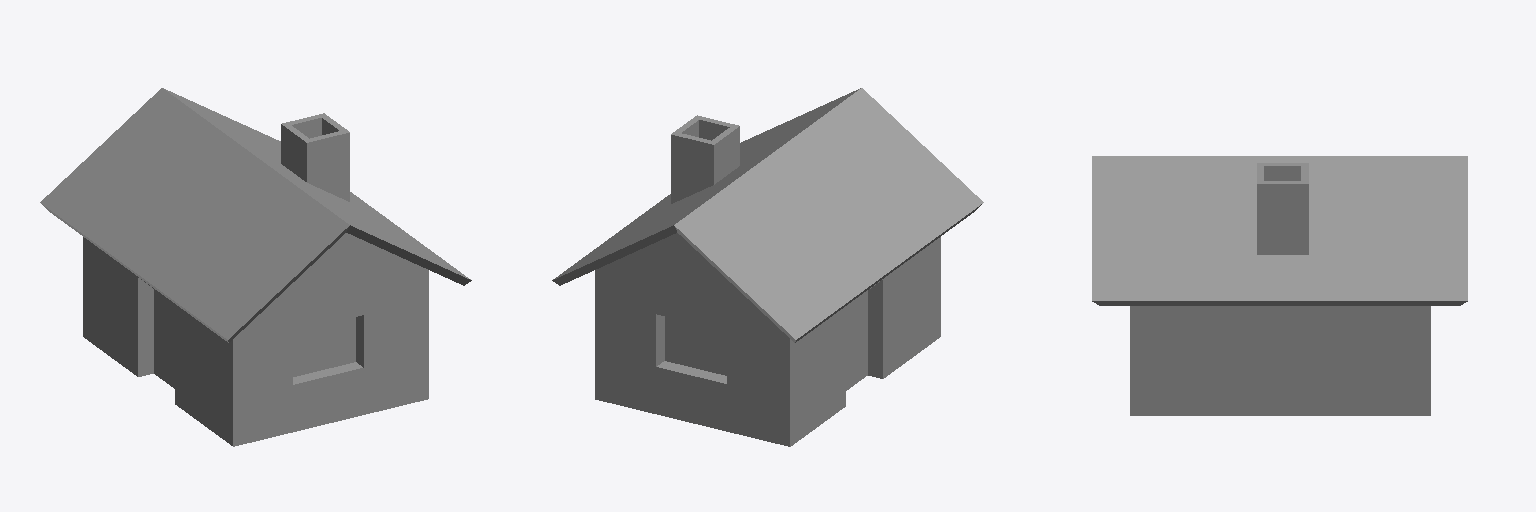
File: House_3x4_2.obj
The picture shows the model from 3 angles: view 1: azimuth 30°, elevation 25°; view 2: azimuth 150°, elevation 25°; view 3: azimuth 270°, elevation 25°; orthographic projection.
Visible parts, largest first — view 1: Cube; view 2: Cube; view 3: Cube.
Part boxes in pixels (bbox=[...]): Cube: bbox=[40, 88, 471, 446]; Cube: bbox=[552, 88, 983, 446]; Cube: bbox=[1092, 156, 1467, 415].
Bounding box in the file's own units: 3.74 × 3.28 × 4.99.